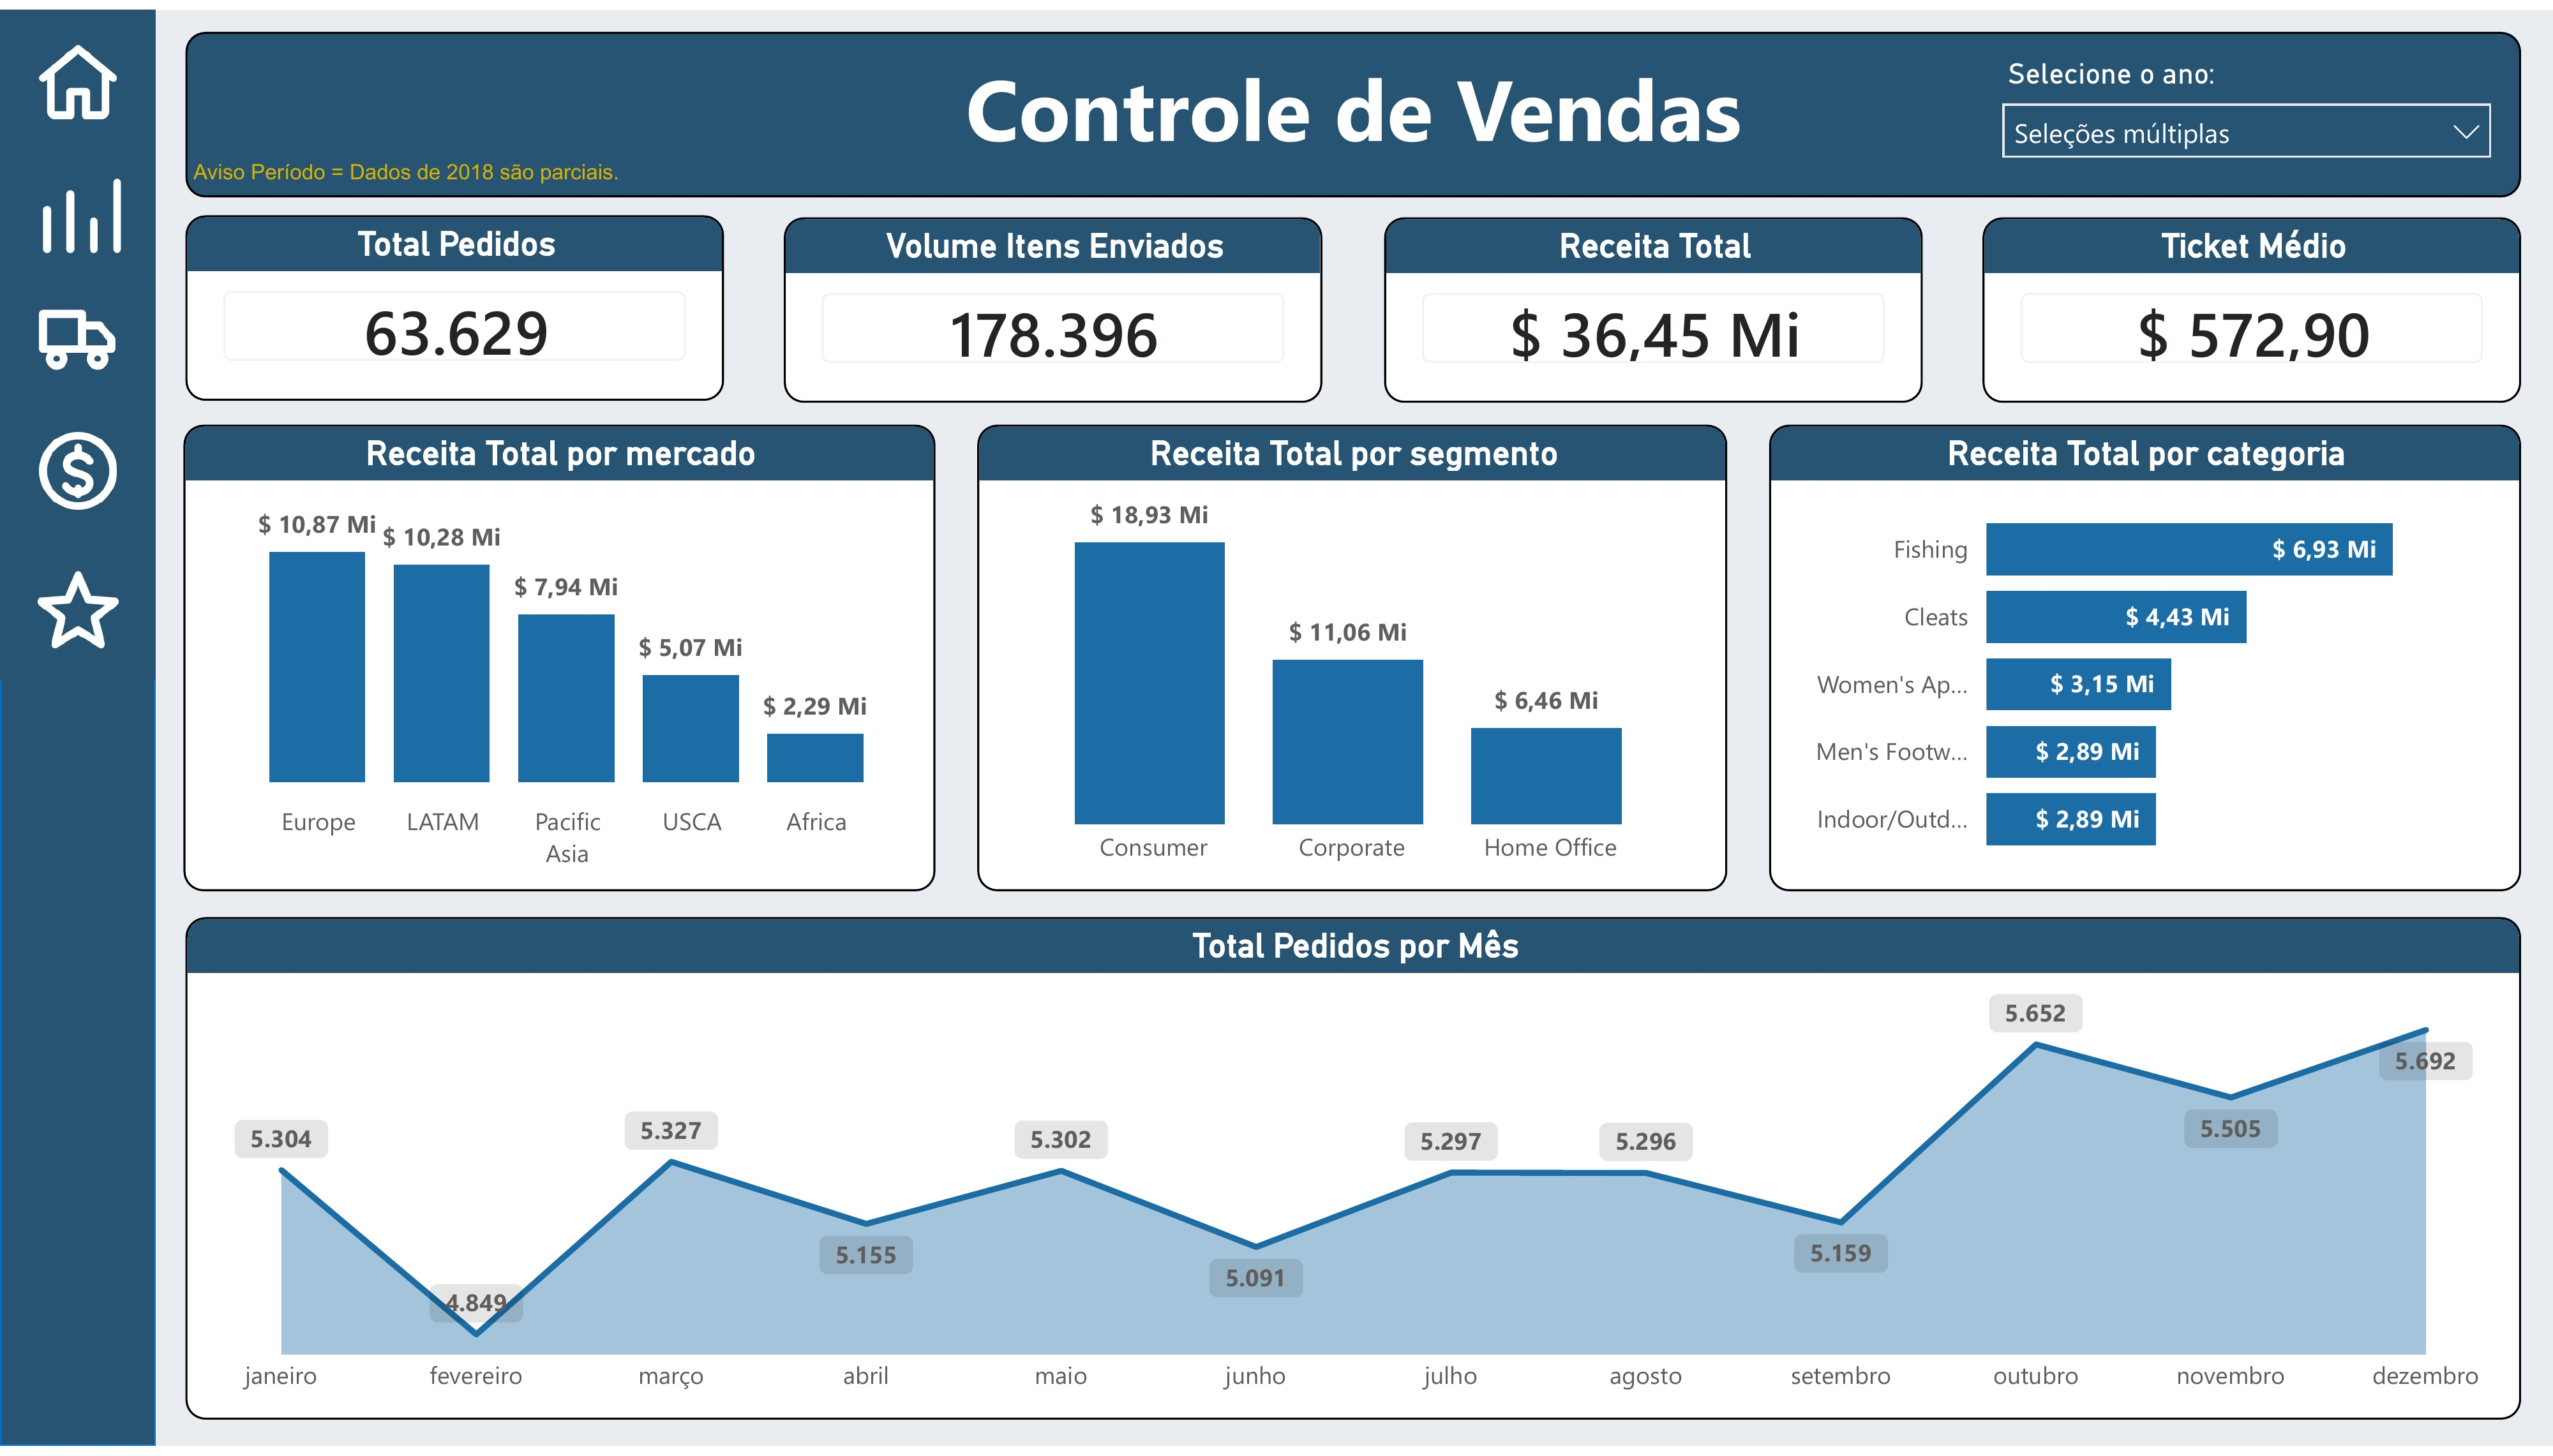

The dashboard page shown, as its layout file describes it:
{"tool":"powerbi","page":{"name":"Vendas","canvas":[1280,720],"ordinal":1},"visuals":[{"type":"shape","box":[0,0,78.3,720.2],"z":0},{"type":"cardVisual","title":"Total Pedidos","fields":{"Data":["vw_vendas.Total Pedidos"]},"box":[92.9,103.4,270,92.9],"z":1000},{"type":"cardVisual","title":"Volume Itens Enviados","fields":{"Data":["vw_vendas.Total Fretes"]},"box":[393.3,103.8,270,92.9],"z":2000},{"type":"cardVisual","title":"Receita Total","fields":{"Data":["vw_vendas.Receita Total"]},"box":[693.7,103.8,270,92.9],"z":3000},{"type":"cardVisual","title":"Ticket Médio","fields":{"Data":["vw_vendas.Ticket Medio"]},"box":[994.1,103.8,270.2,92.9],"z":4000},{"type":"areaChart","fields":{"Y":["vw_vendas.Total Pedidos"],"Category":["dCalendario.Date.Variation.Hierarquia de datas.Mês"]},"box":[92.9,454.8,1171.5,252.1],"z":5000},{"type":"textbox","box":[92.9,10.9,1171.5,83.2],"z":6000},{"type":"slicer","fields":{"Values":["dCalendario.Date.Variation.Hierarquia de datas.Ano1"]},"box":[994.1,19.3,265.4,66.4],"z":7000},{"type":"textbox","box":[92.3,65.6,449.4,40.1],"z":8000},{"type":"clusteredColumnChart","fields":{"Category":["vw_vendas.mercado"],"Y":["vw_vendas.Receita Total"]},"box":[92.3,207.7,376.5,234.4],"z":9000},{"type":"clusteredColumnChart","fields":{"Category":["vw_vendas.segmento"],"Y":["vw_vendas.Receita Total"]},"box":[489.8,207.7,376,234.4],"z":10000},{"type":"clusteredBarChart","fields":{"Category":["vw_vendas.categoria"],"Y":["vw_vendas.Receita Total"]},"box":[886.7,207.7,376.5,234.4],"z":11000},{"type":"image","box":[0,0,78,69],"z":12000},{"type":"image","box":[0,266,78,70],"z":16000},{"type":"image","box":[0,196,78,70],"z":16500},{"type":"image","box":[0,127,78,70],"z":17000},{"type":"image","box":[0,69,78,70],"z":17500}]}

Visuals, with their boxes on the page's 1280x720 design canvas (x1, y1, x2, y2). These are canvas units, not pixel positions in the 2553x1456 screenshot, which may show the page scaled, cropped or inside an application window:
shape: Rect(0, 0, 78, 720)
"Total Pedidos" cardVisual: Rect(93, 103, 363, 196)
"Volume Itens Enviados" cardVisual: Rect(393, 104, 663, 197)
"Receita Total" cardVisual: Rect(694, 104, 964, 197)
"Ticket Médio" cardVisual: Rect(994, 104, 1264, 197)
areaChart - vw_vendas.Total Pedidos x dCalendario.Date.Variation.Hierarquia de datas.Mês: Rect(93, 455, 1264, 707)
textbox: Rect(93, 11, 1264, 94)
slicer - dCalendario.Date.Variation.Hierarquia de datas.Ano1: Rect(994, 19, 1260, 86)
textbox: Rect(92, 66, 542, 106)
clusteredColumnChart - vw_vendas.mercado x vw_vendas.Receita Total: Rect(92, 208, 469, 442)
clusteredColumnChart - vw_vendas.segmento x vw_vendas.Receita Total: Rect(490, 208, 866, 442)
clusteredBarChart - vw_vendas.categoria x vw_vendas.Receita Total: Rect(887, 208, 1263, 442)
image: Rect(0, 0, 78, 69)
image: Rect(0, 266, 78, 336)
image: Rect(0, 196, 78, 266)
image: Rect(0, 127, 78, 197)
image: Rect(0, 69, 78, 139)
